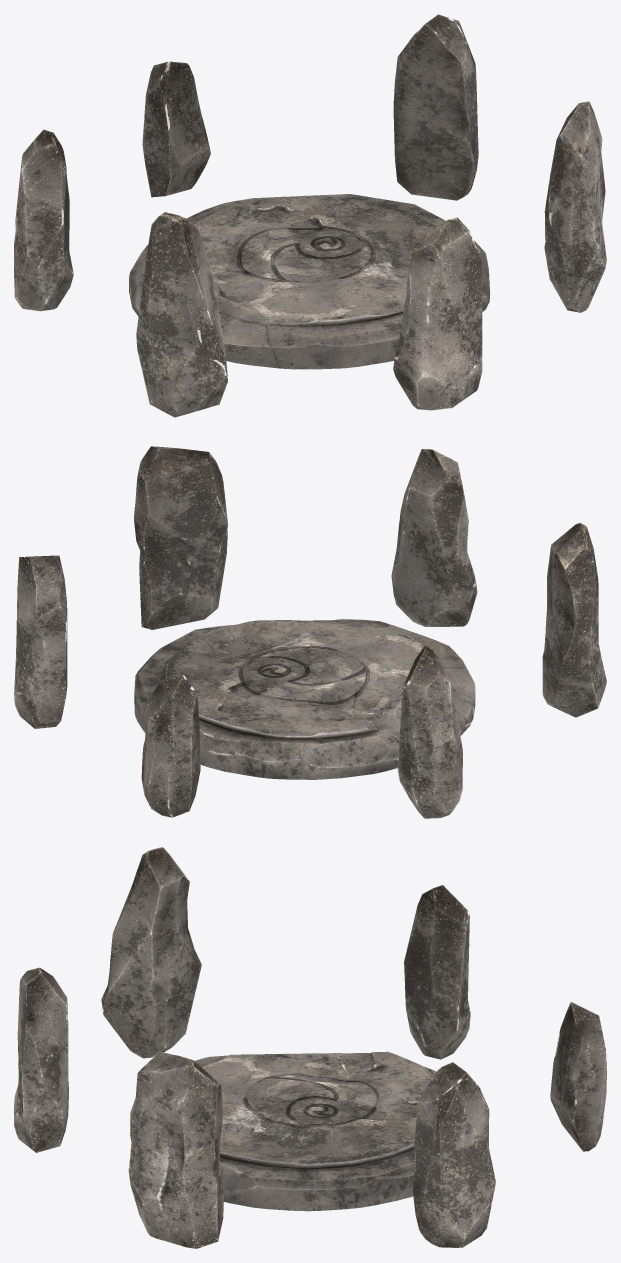
The picture shows the model from 3 angles, top to bottom: view 1: azimuth 30°, elevation 25°; view 2: azimuth 150°, elevation 25°; view 3: azimuth 270°, elevation 25°; orthographic projection. The views are drawn at different scales.
Parts seen in each view (by area): view 1: portalbase_portal_0, portalmonolith_5_portal_0, portalmonolith_4_portal_0, portalmonolith_2_portal_0, portalmonolith_3_portal_0, portalmonolith_6_portal_0, portalmonolith_portal_0; view 2: portalbase_portal_0, portalmonolith_3_portal_0, portalmonolith_4_portal_0, portalmonolith_5_portal_0, portalmonolith_6_portal_0, portalmonolith_2_portal_0, portalmonolith_portal_0; view 3: portalbase_portal_0, portalmonolith_3_portal_0, portalmonolith_5_portal_0, portalmonolith_2_portal_0, portalmonolith_6_portal_0, portalmonolith_4_portal_0, portalmonolith_portal_0.
Part boxes in pixels (<box>): portalbase_portal_0: <box>129,194,490,369</box>; portalmonolith_5_portal_0: <box>136,212,227,417</box>; portalmonolith_4_portal_0: <box>393,217,482,410</box>; portalmonolith_2_portal_0: <box>393,14,478,200</box>; portalmonolith_3_portal_0: <box>544,101,606,312</box>; portalmonolith_6_portal_0: <box>14,129,73,311</box>; portalmonolith_portal_0: <box>142,61,210,197</box>; portalbase_portal_0: <box>134,619,475,779</box>; portalmonolith_3_portal_0: <box>134,446,227,629</box>; portalmonolith_4_portal_0: <box>391,449,477,626</box>; portalmonolith_5_portal_0: <box>542,523,606,717</box>; portalmonolith_6_portal_0: <box>397,645,462,818</box>; portalmonolith_2_portal_0: <box>14,555,67,728</box>; portalmonolith_portal_0: <box>141,675,200,817</box>; portalbase_portal_0: <box>130,1051,436,1211</box>; portalmonolith_3_portal_0: <box>128,1051,223,1248</box>; portalmonolith_5_portal_0: <box>101,847,201,1058</box>; portalmonolith_2_portal_0: <box>412,1062,495,1247</box>; portalmonolith_6_portal_0: <box>404,885,470,1059</box>; portalmonolith_4_portal_0: <box>14,967,68,1152</box>; portalmonolith_portal_0: <box>550,1001,606,1151</box>.
Bounding box in the file's own units: 2280 × 935 × 2534.
1 material, 1 textured.
